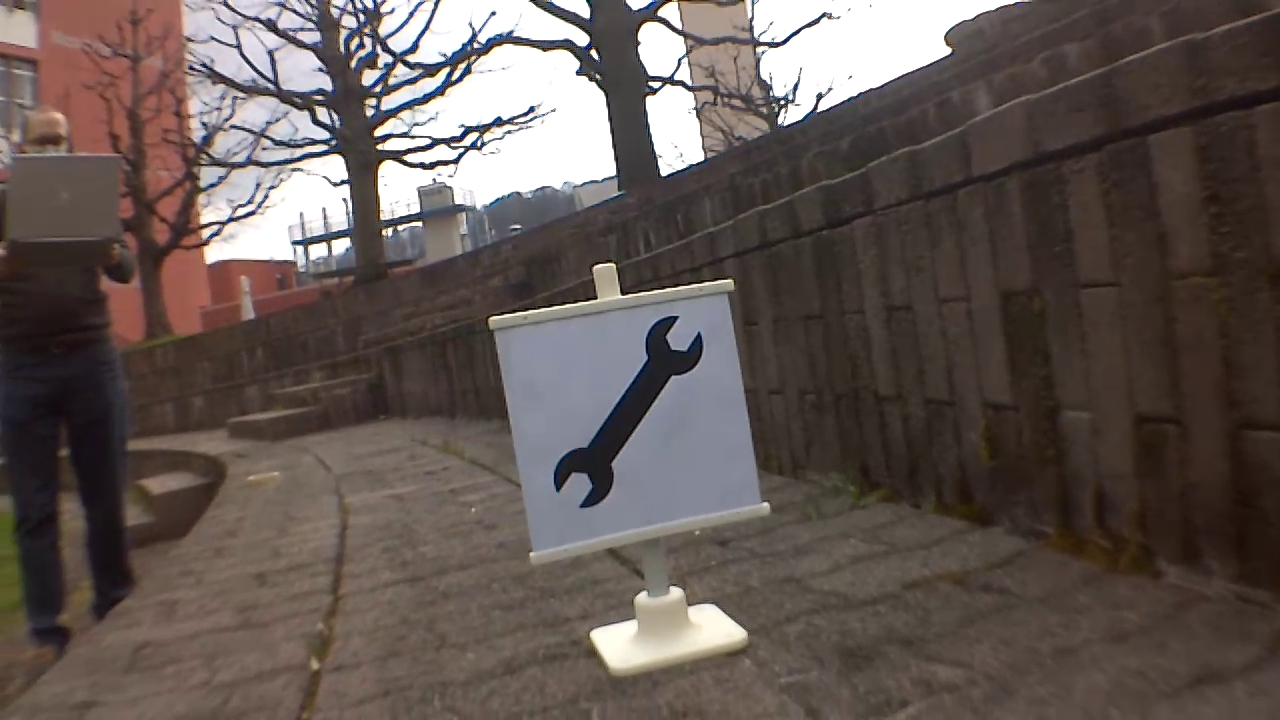wrench: (553, 313, 707, 510)
